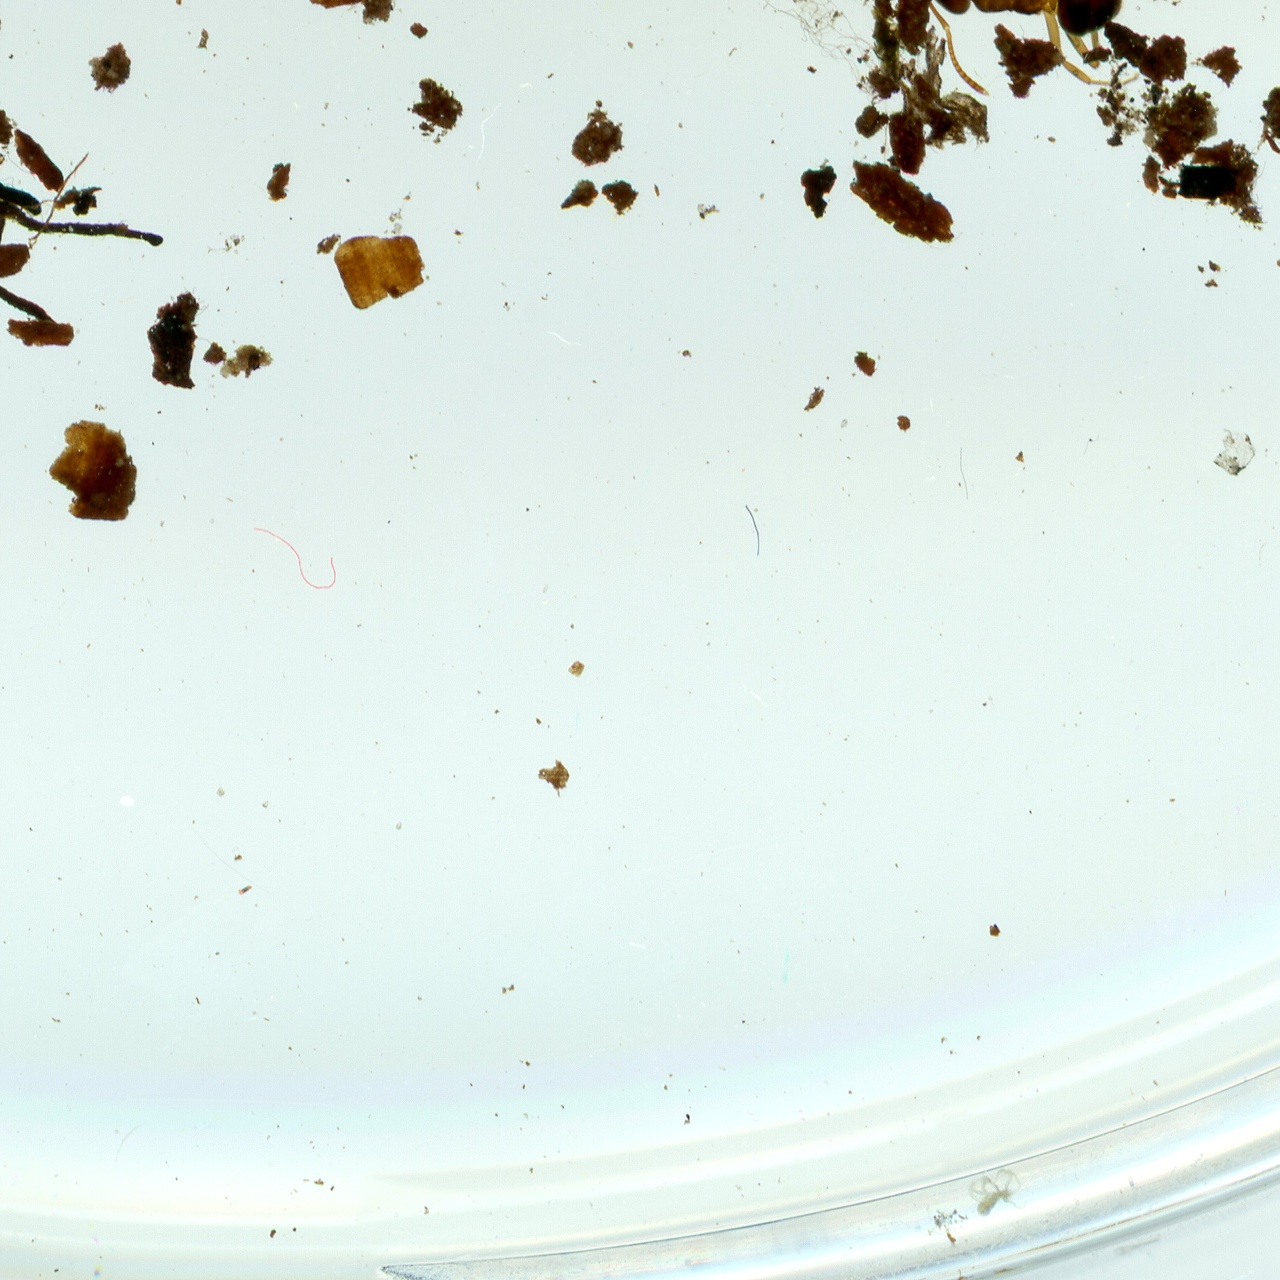arthropod: (927, 0, 1143, 101)
